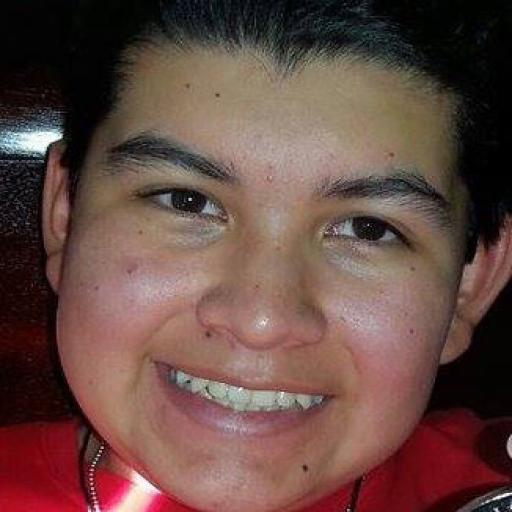Autism: (17, 13, 509, 512)
